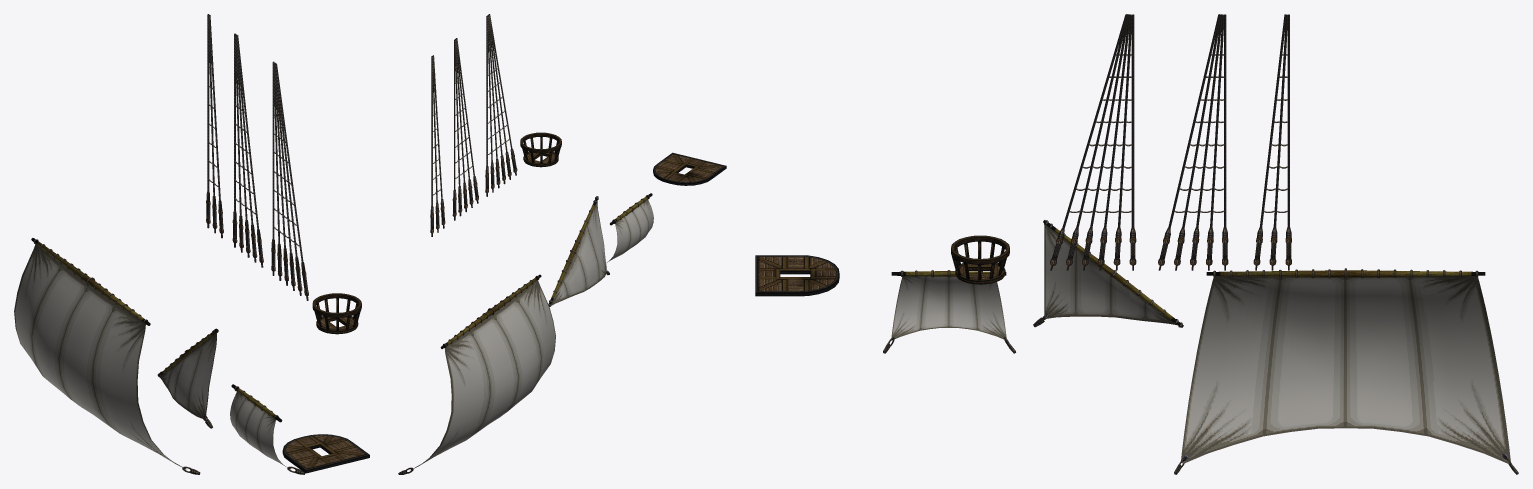
File: EnvMdrMD_Ship_A_Sail_A.FBX
The picture shows the model from 3 angles, left to right: view 1: azimuth 30°, elevation 25°; view 2: azimuth 150°, elevation 25°; view 3: azimuth 270°, elevation 25°; orthographic projection. The views are drawn at different scales.
Parts seen in each view (by area): view 1: EnvMdrMD_Ship_A_Sail_A, EnvMdrMD_Ship_A_Shroud_A, EnvMdrMD_Ship_A_Sail_B, EnvMdrMD_Ship_A_Shroud_B, EnvMdrMD_Ship_A_Scaffold_B, EnvMdrMD_Ship_A_Sail_C, EnvMdrMD_Ship_A_Shroud_C, EnvMdrMD_Ship_A_Scaffold_A; view 2: EnvMdrMD_Ship_A_Sail_A, EnvMdrMD_Ship_A_Sail_B, EnvMdrMD_Ship_A_Shroud_A, EnvMdrMD_Ship_A_Shroud_B, EnvMdrMD_Ship_A_Scaffold_B, EnvMdrMD_Ship_A_Sail_C, EnvMdrMD_Ship_A_Shroud_C, EnvMdrMD_Ship_A_Scaffold_A; view 3: EnvMdrMD_Ship_A_Sail_A, EnvMdrMD_Ship_A_Sail_B, EnvMdrMD_Ship_A_Sail_C, EnvMdrMD_Ship_A_Shroud_A, EnvMdrMD_Ship_A_Shroud_B, EnvMdrMD_Ship_A_Scaffold_B, EnvMdrMD_Ship_A_Shroud_C, EnvMdrMD_Ship_A_Scaffold_A.
Part boxes in pixels (bbox=[...]): EnvMdrMD_Ship_A_Sail_A: bbox=[14, 238, 200, 474]; EnvMdrMD_Ship_A_Shroud_A: bbox=[271, 61, 308, 300]; EnvMdrMD_Ship_A_Sail_B: bbox=[157, 328, 218, 428]; EnvMdrMD_Ship_A_Shroud_B: bbox=[232, 33, 263, 267]; EnvMdrMD_Ship_A_Scaffold_B: bbox=[282, 434, 369, 473]; EnvMdrMD_Ship_A_Sail_C: bbox=[230, 384, 305, 474]; EnvMdrMD_Ship_A_Shroud_C: bbox=[206, 14, 223, 238]; EnvMdrMD_Ship_A_Scaffold_A: bbox=[312, 293, 361, 334]; EnvMdrMD_Ship_A_Sail_A: bbox=[398, 274, 555, 474]; EnvMdrMD_Ship_A_Sail_B: bbox=[548, 196, 609, 306]; EnvMdrMD_Ship_A_Shroud_A: bbox=[485, 14, 517, 196]; EnvMdrMD_Ship_A_Shroud_B: bbox=[452, 38, 478, 220]; EnvMdrMD_Ship_A_Scaffold_B: bbox=[653, 152, 726, 185]; EnvMdrMD_Ship_A_Sail_C: bbox=[607, 193, 653, 262]; EnvMdrMD_Ship_A_Shroud_C: bbox=[430, 55, 445, 236]; EnvMdrMD_Ship_A_Scaffold_A: bbox=[520, 132, 561, 167]; EnvMdrMD_Ship_A_Sail_A: bbox=[1174, 268, 1518, 474]; EnvMdrMD_Ship_A_Sail_B: bbox=[1033, 220, 1183, 327]; EnvMdrMD_Ship_A_Sail_C: bbox=[883, 270, 1015, 353]; EnvMdrMD_Ship_A_Shroud_A: bbox=[1050, 14, 1136, 270]; EnvMdrMD_Ship_A_Shroud_B: bbox=[1158, 14, 1228, 270]; EnvMdrMD_Ship_A_Scaffold_B: bbox=[755, 255, 839, 296]; EnvMdrMD_Ship_A_Shroud_C: bbox=[1253, 14, 1291, 270]; EnvMdrMD_Ship_A_Scaffold_A: bbox=[951, 235, 1009, 284].
Size of the model in its own units: 1241 by 3319 by 4657.
Materials: 1 (1 with a texture image).
